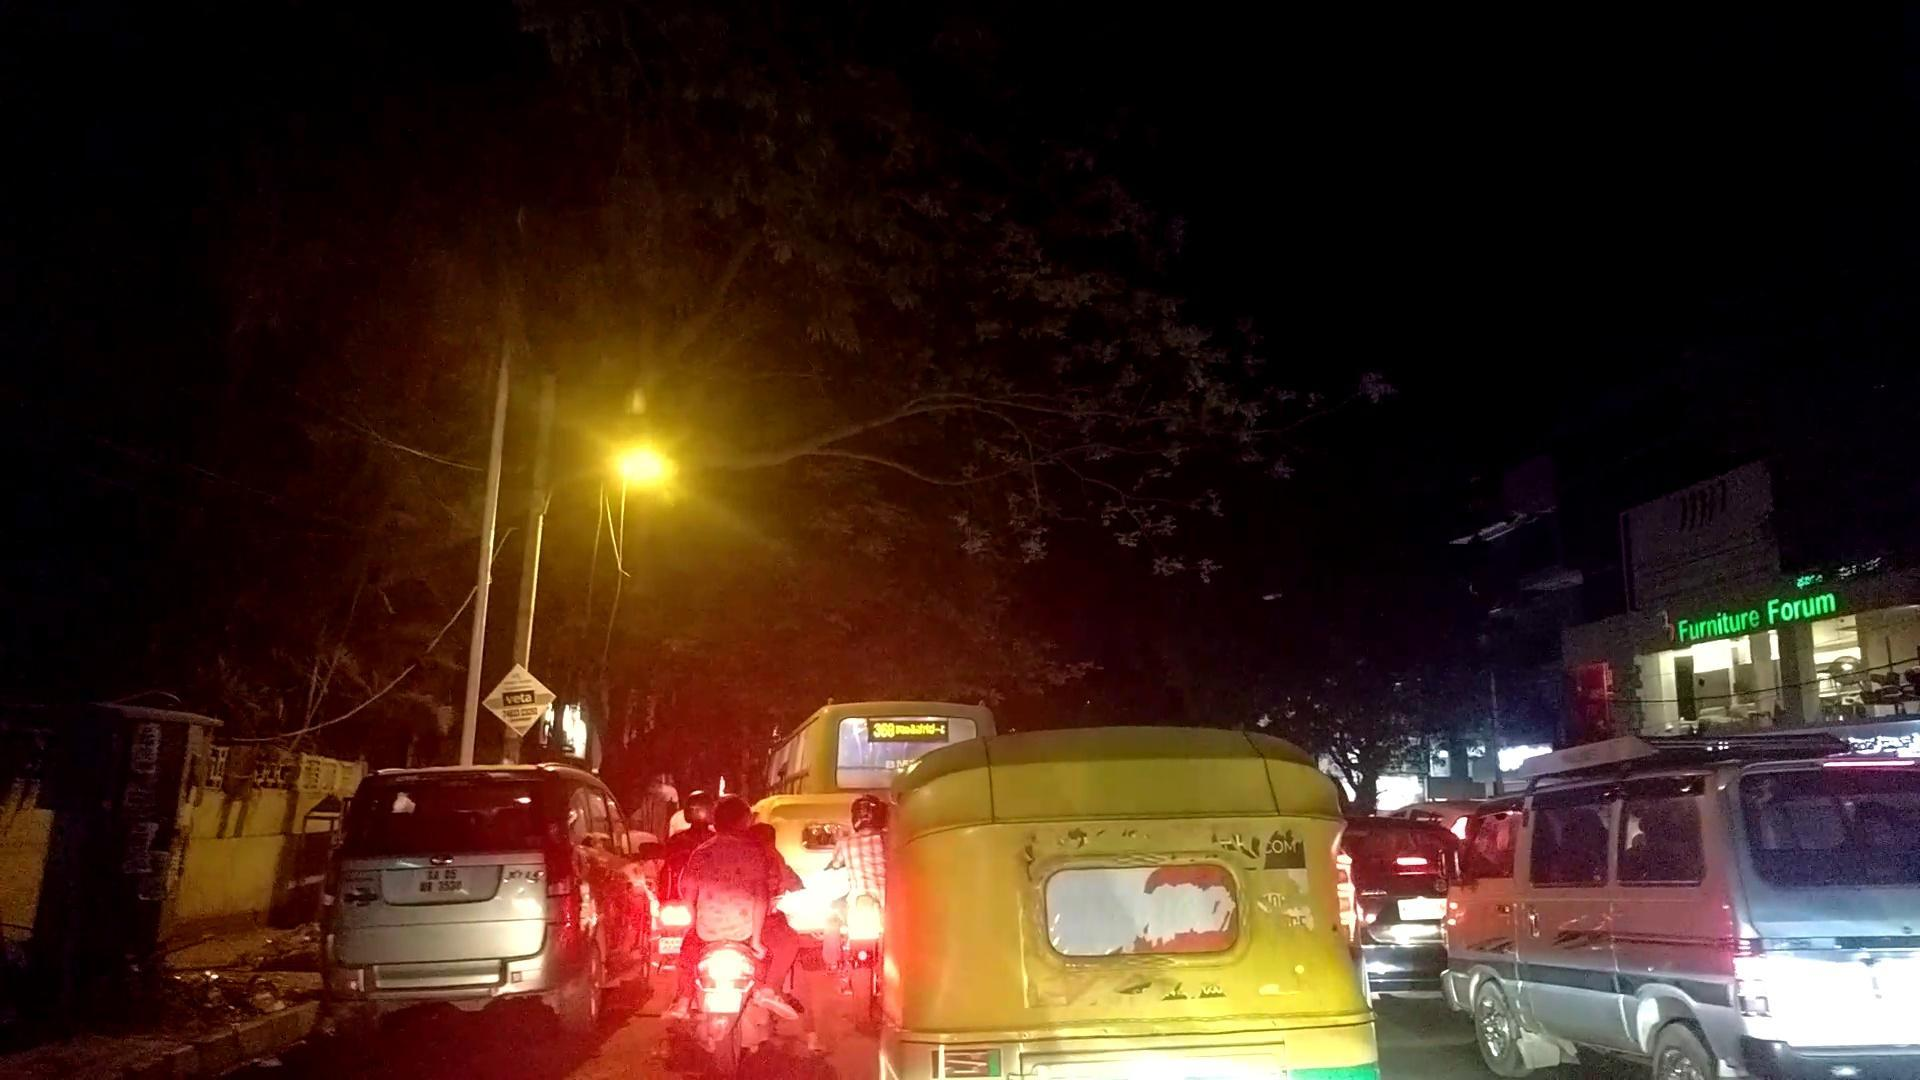on: (0, 42, 1920, 1075)
